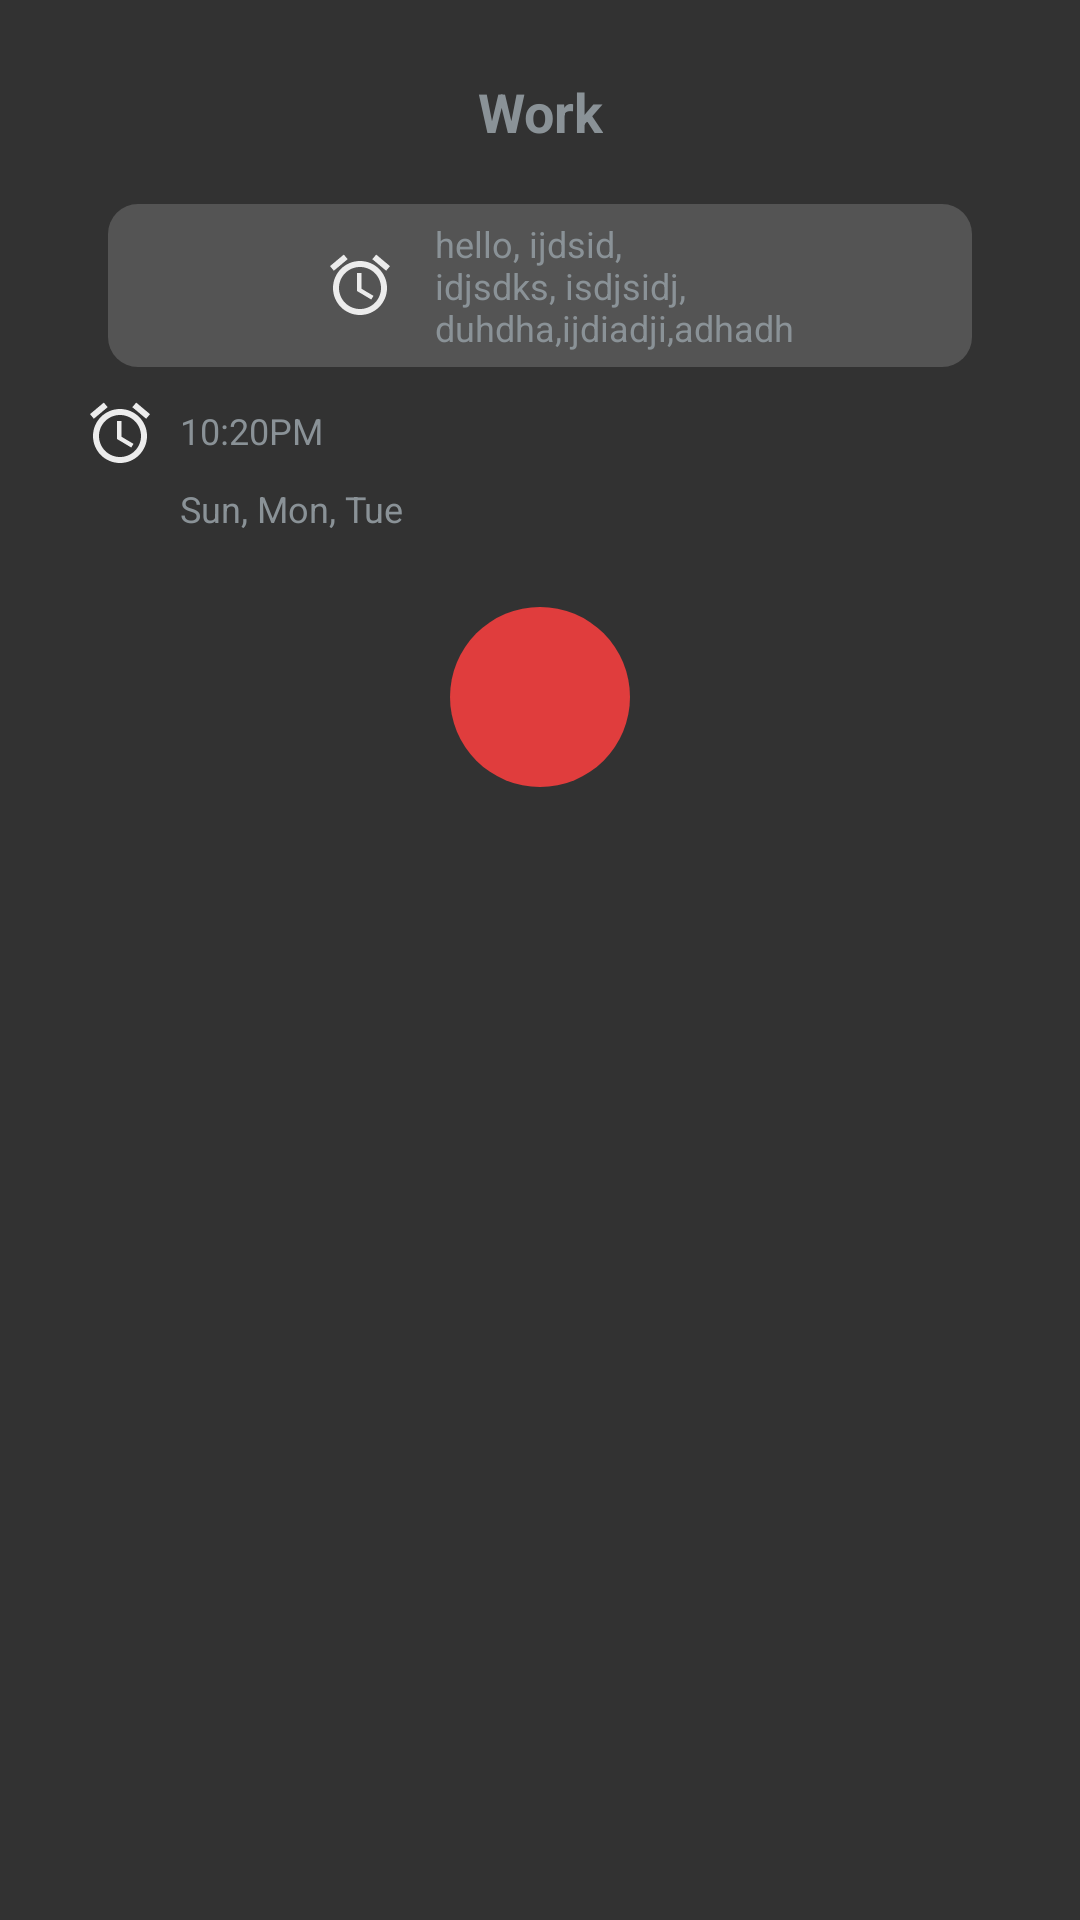

Locate icon controls on the screen. Image size 1080x1920, boxes as (x1, y1, x2, y2).
access alarm: (330, 255, 390, 315), (90, 403, 150, 463)
